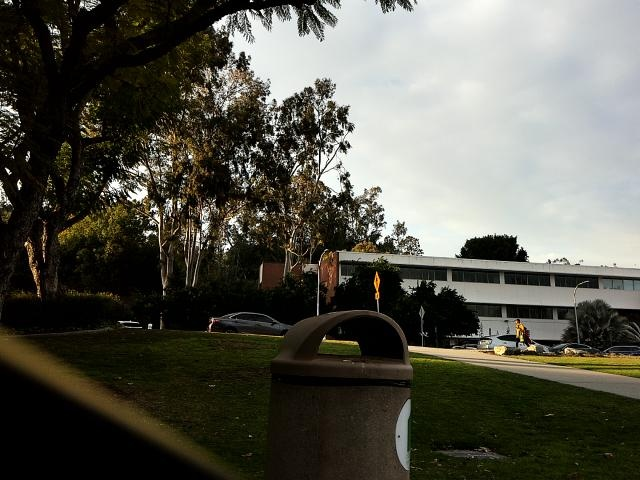trashcan: (265, 306, 411, 480)
